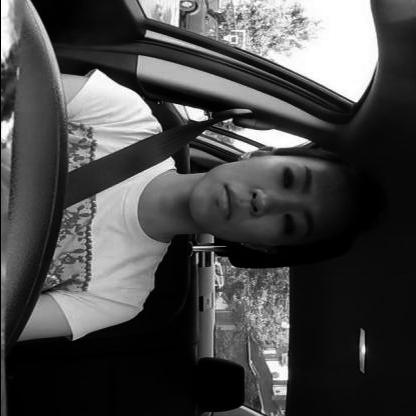seatbelt: (33, 110, 405, 262)
